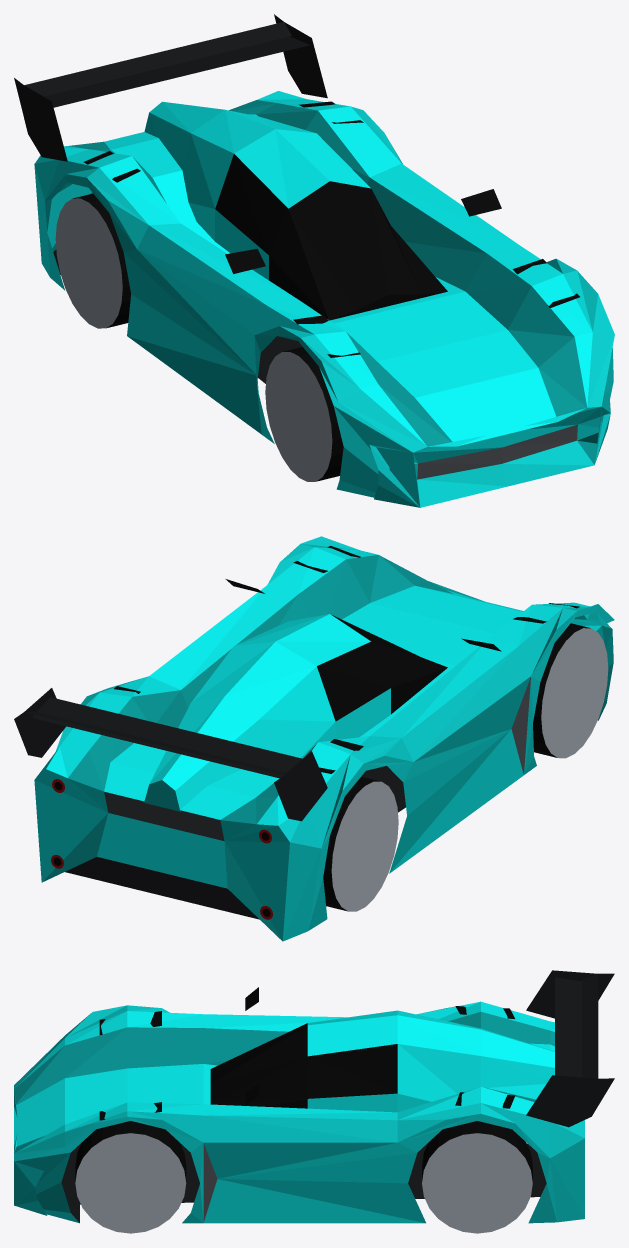
The model's file is MCMU.obj.
3 views of the same model, one above another, from view 1: azimuth 30°, elevation 25°; view 2: azimuth 150°, elevation 25°; view 3: azimuth 270°, elevation 25° (orthographic). The views are drawn at different scales.
Visible parts, largest first — view 1: McMurtry_Speirling_PURE; view 2: McMurtry_Speirling_PURE; view 3: McMurtry_Speirling_PURE.
Boxes of the visible parts, bbox=[...] form: McMurtry_Speirling_PURE: bbox=[14, 14, 614, 507]; McMurtry_Speirling_PURE: bbox=[14, 536, 614, 941]; McMurtry_Speirling_PURE: bbox=[14, 970, 614, 1233].
Size of the model in its own units: 1.69 by 1.14 by 3.81.
